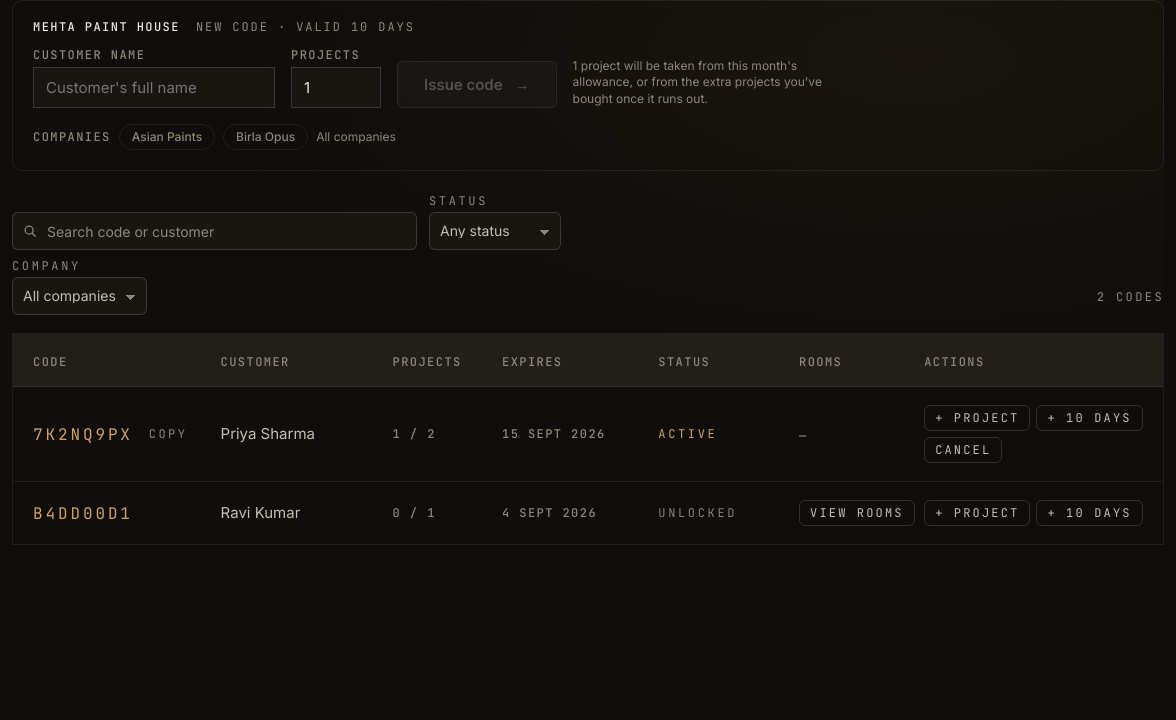
Test: AccessCodes — cancelling an unredeemed code › returns the held quota only after a confirmation, and never offers it on a redeemed code
This screenshot has width=1176, height=720.
# Cancelling releases image credits back to the shop, so it takes two clicks.
Click the button "Cancel".
click(963, 450)  # box [924,437,1002,463]
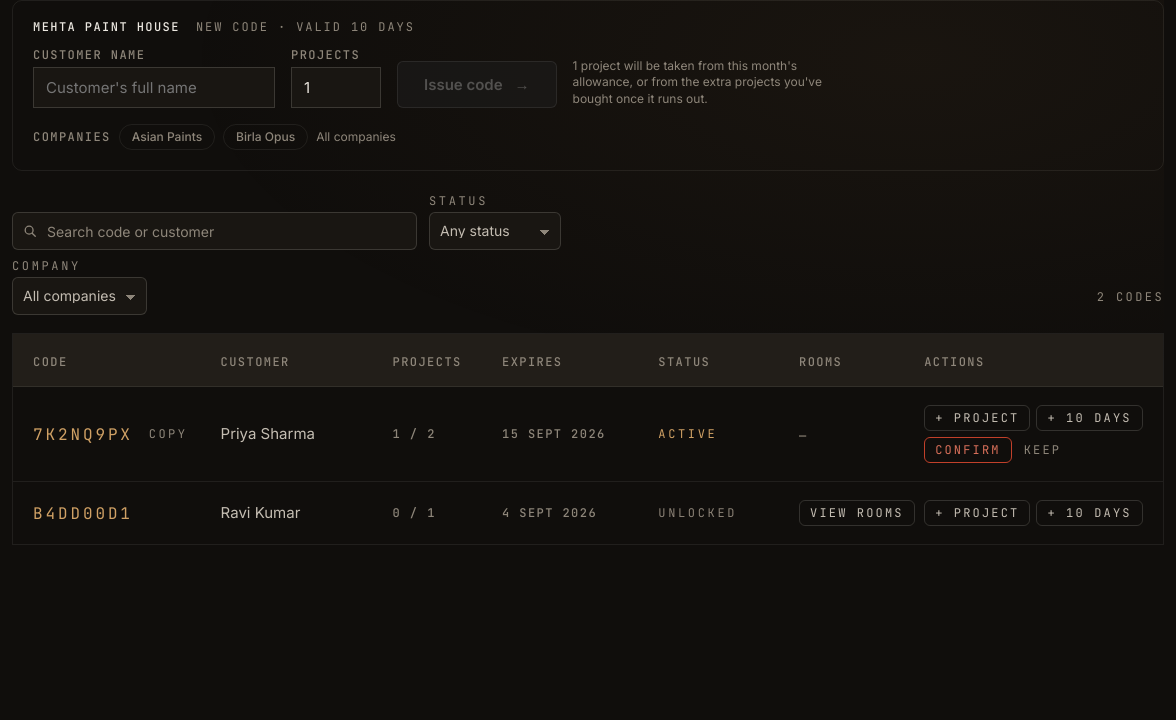
Click the button "Confirm".
click(968, 450)  # box [924,437,1012,463]
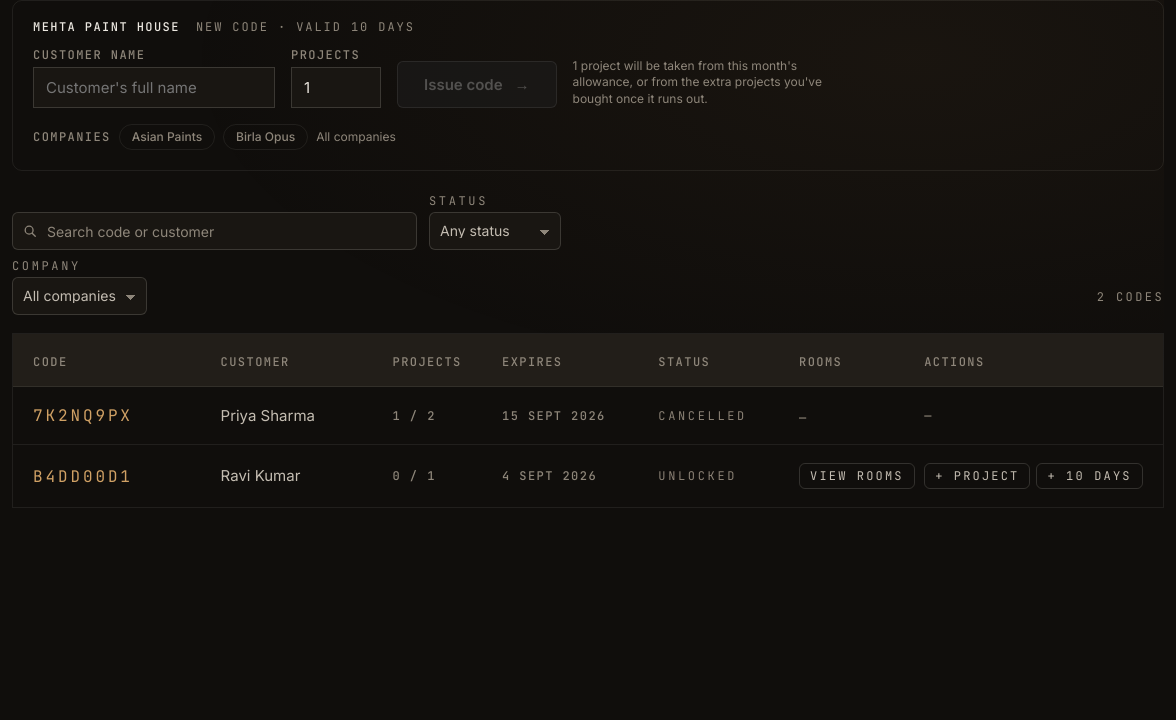
Expected: the text "cancelled" is shown, [658,408,747,424]
